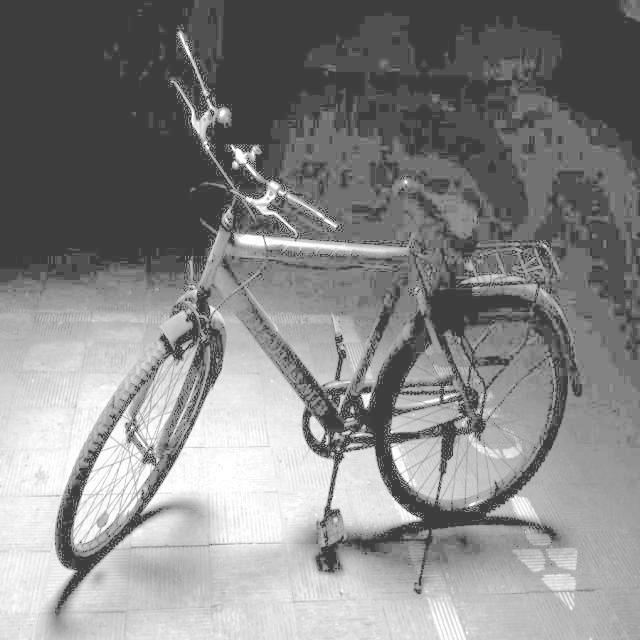Bicycle: (0, 52, 621, 640)
